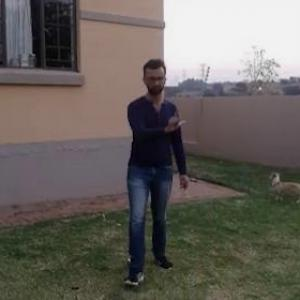land_hand: (165, 103, 191, 135)
